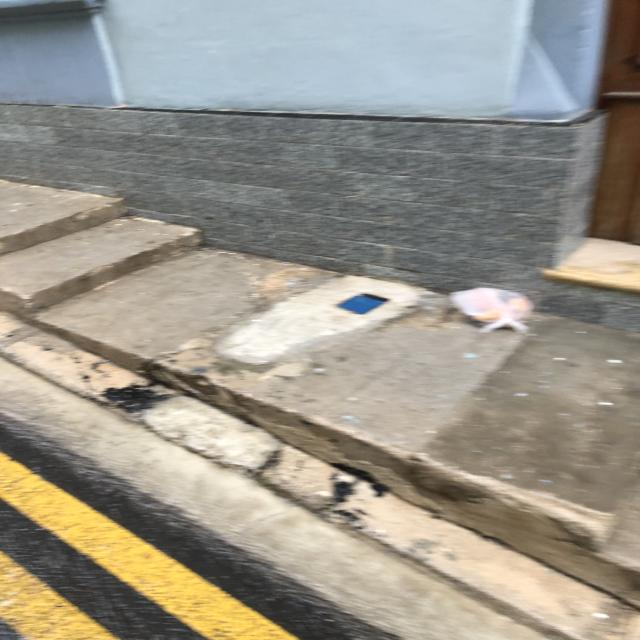Organic Waste -White Bag-: (449, 284, 543, 342)
